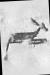E9: (3, 0, 48, 74)
